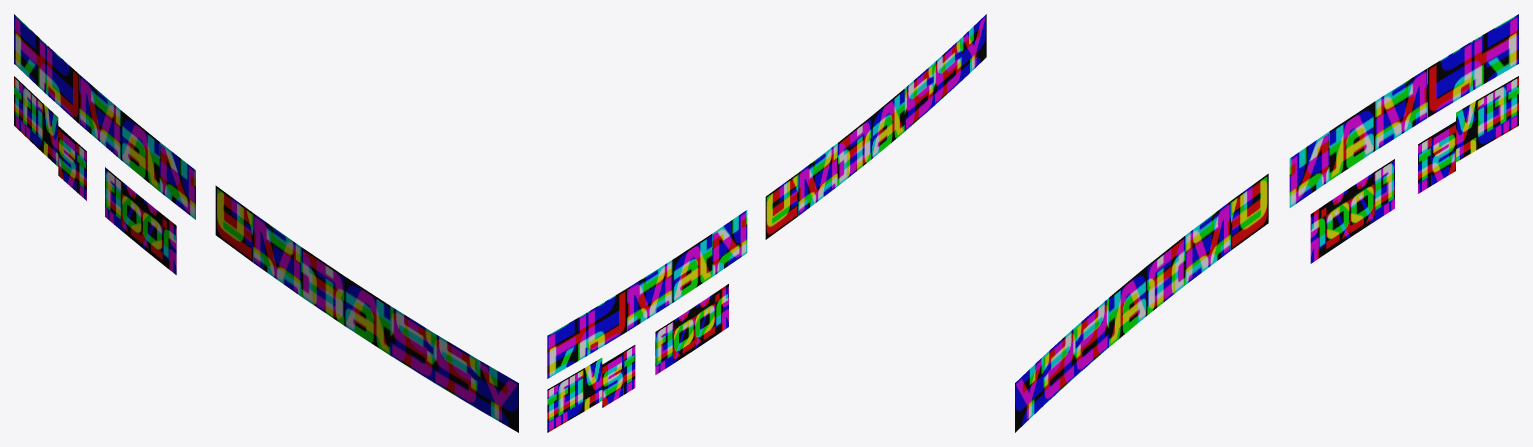
The model's file is humanembassy.FBX.
3 views of the same model, side by side, from view 1: azimuth 30°, elevation 25°; view 2: azimuth 150°, elevation 25°; view 3: azimuth 330°, elevation 25° (orthographic). The views are drawn at different scales.
Parts seen in each view (by area): view 1: humanembassy; view 2: humanembassy; view 3: humanembassy.
Boxes of the visible parts, box(x1,y1,x2,y2) form: humanembassy: box(14, 14, 518, 432); humanembassy: box(547, 14, 986, 432); humanembassy: box(1015, 14, 1518, 432).
Bounding box in the file's own units: 0.0515 × 0.2374 × 1.81.
